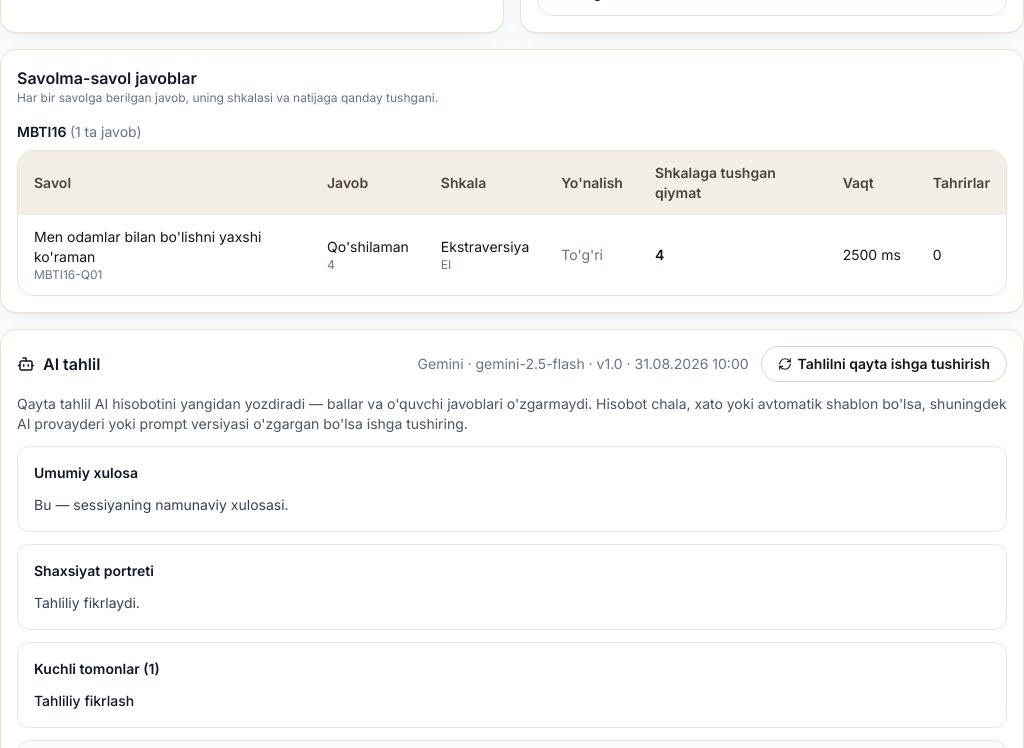
AssessmentDetailPage › qayta tahlil faqat tasdiq oynasidan keyin yuboriladi
(page scrolled)
Click the button "Tahlilni qayta ishga tushirish" at [884, 364], box [761,346,1007,382]
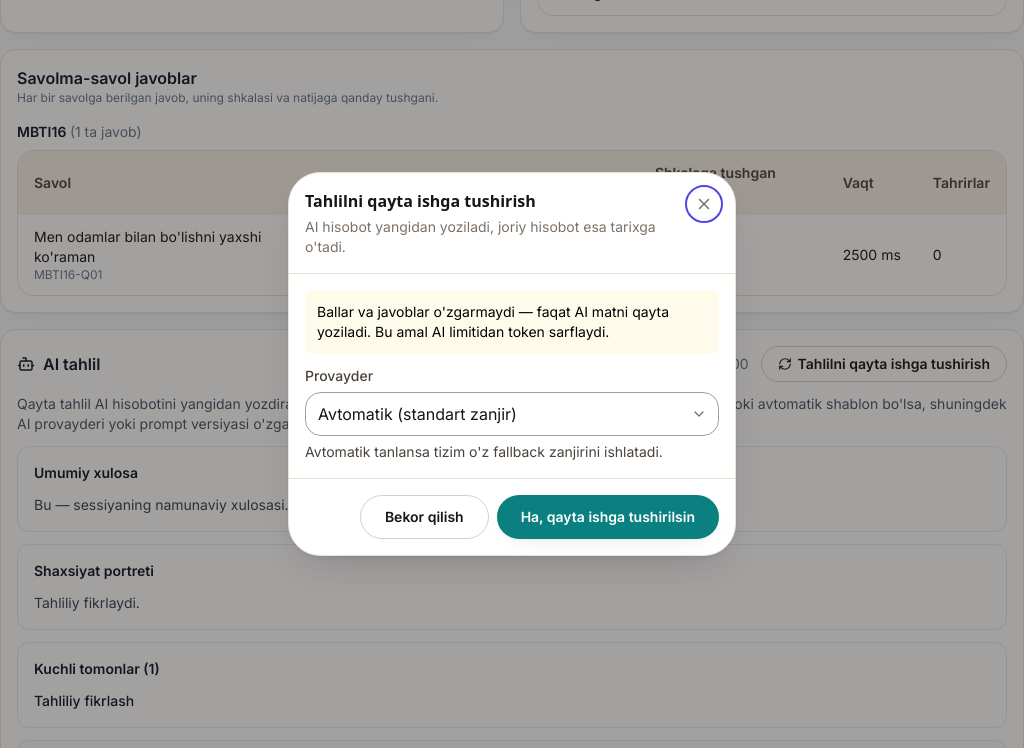
Result: the text "Ballar va javoblar o'zgarmaydi" is shown at [317,303,669,340]
Click the button "Ha, qayta ishga tushirilsin" at [608, 517], box [497,495,719,539]
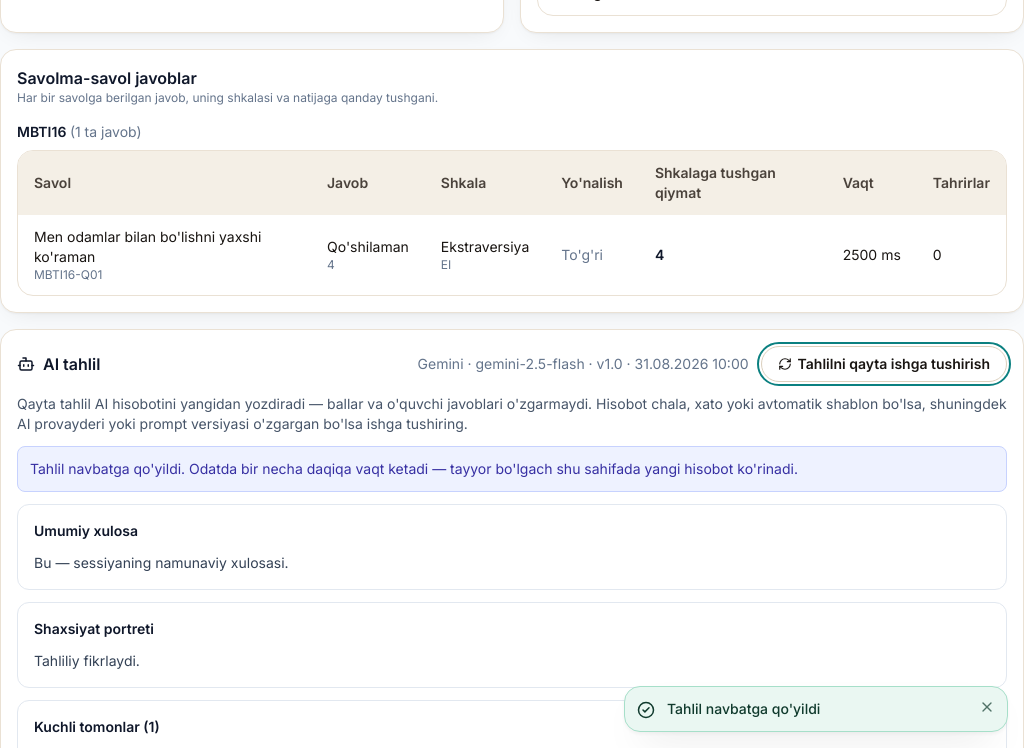
Result: the text "Tahlil navbatga qo'yildi." is shown at [30,460,798,477]
